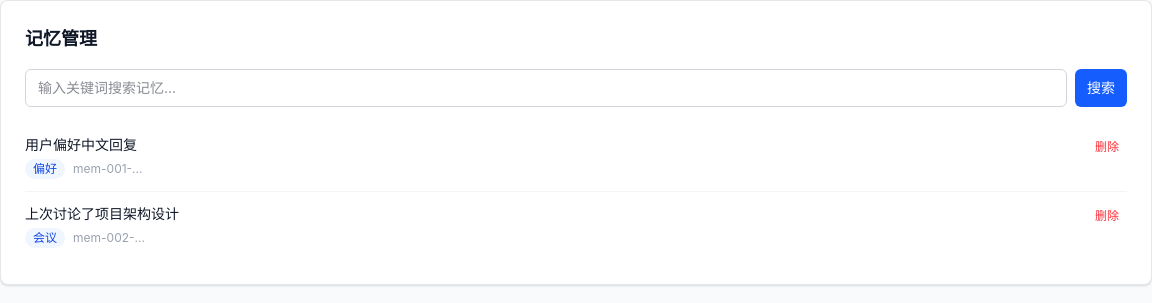
Test: MemoryPanel › 点击清除应回到列表视图
Expected: the text "用户偏好中文回复" is shown, [25,136,137,153]
Type "偏好" into the search field labelled "搜索记忆" at (546,88), box [25,69,1067,107]
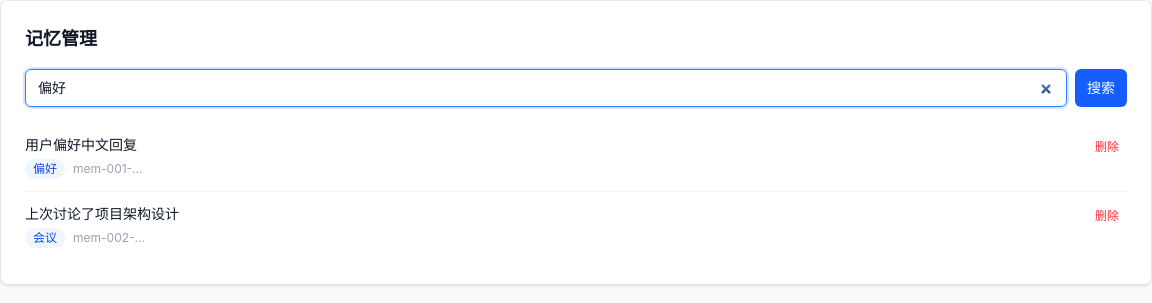
Click the button "搜索" at (1101,88), box [1075,69,1127,107]
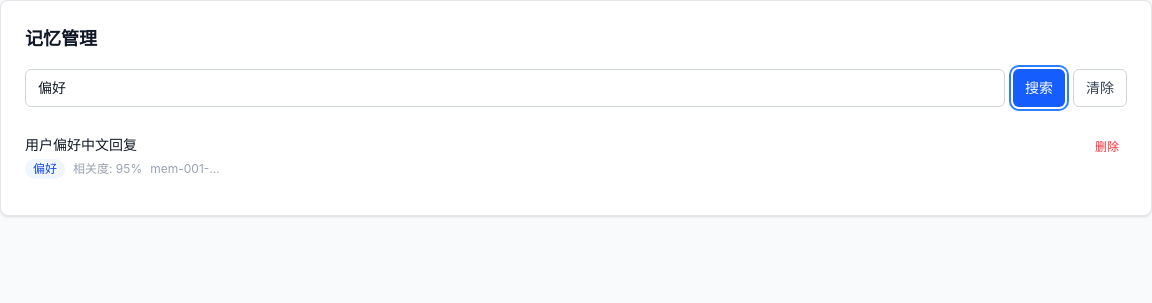
Now the button "清除" is shown
Click the button "清除" at (1100,88), box [1073,69,1127,107]
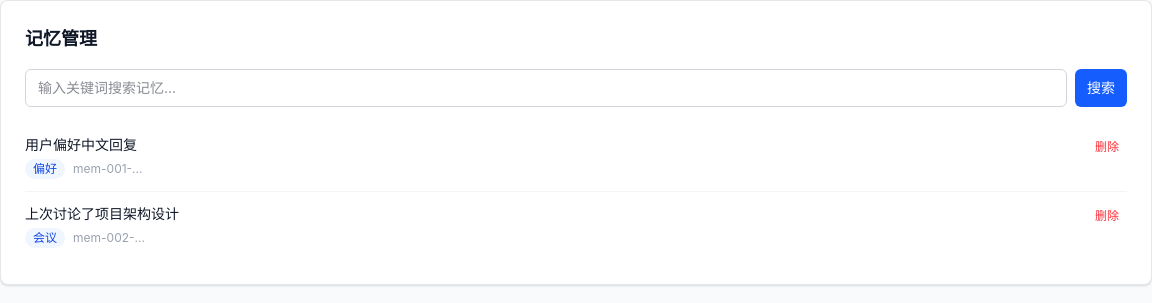
Now the search field labelled "搜索记忆" is empty, box [25,69,1067,107]
